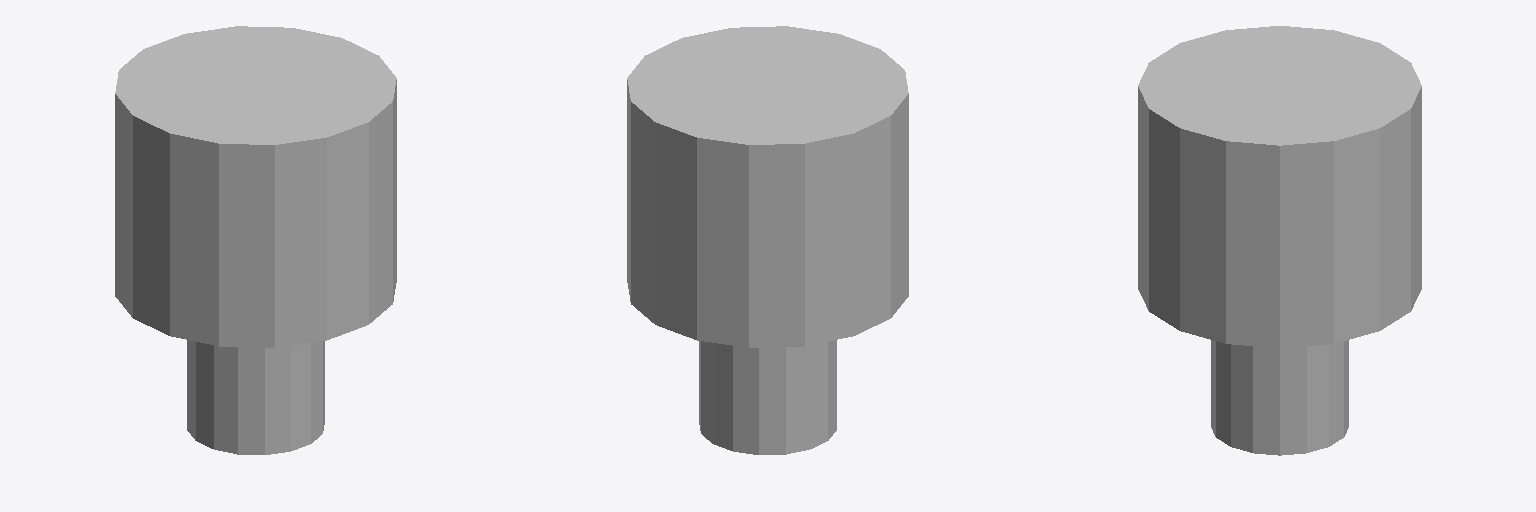
Rendered from Marker.obj.
3 renders of one model, left to right at view 1: azimuth 30°, elevation 25°; view 2: azimuth 150°, elevation 25°; view 3: azimuth 270°, elevation 25°, orthographic.
Visible parts, largest first — view 1: pCylinder22; view 2: pCylinder22; view 3: pCylinder22.
Boxes of the visible parts, box(x1,y1,x2,y2) form: pCylinder22: box(115, 26, 396, 454); pCylinder22: box(627, 26, 908, 454); pCylinder22: box(1138, 26, 1421, 455).
Bounding box in the file's own units: 0.4155 × 0.5498 × 0.4155.